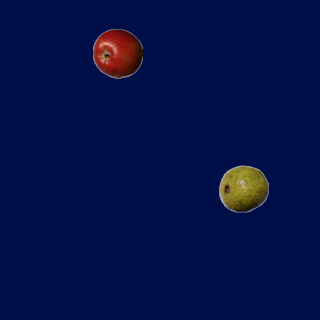Apple Braeburn: (92, 28, 142, 78)
Guava: (218, 163, 268, 213)
